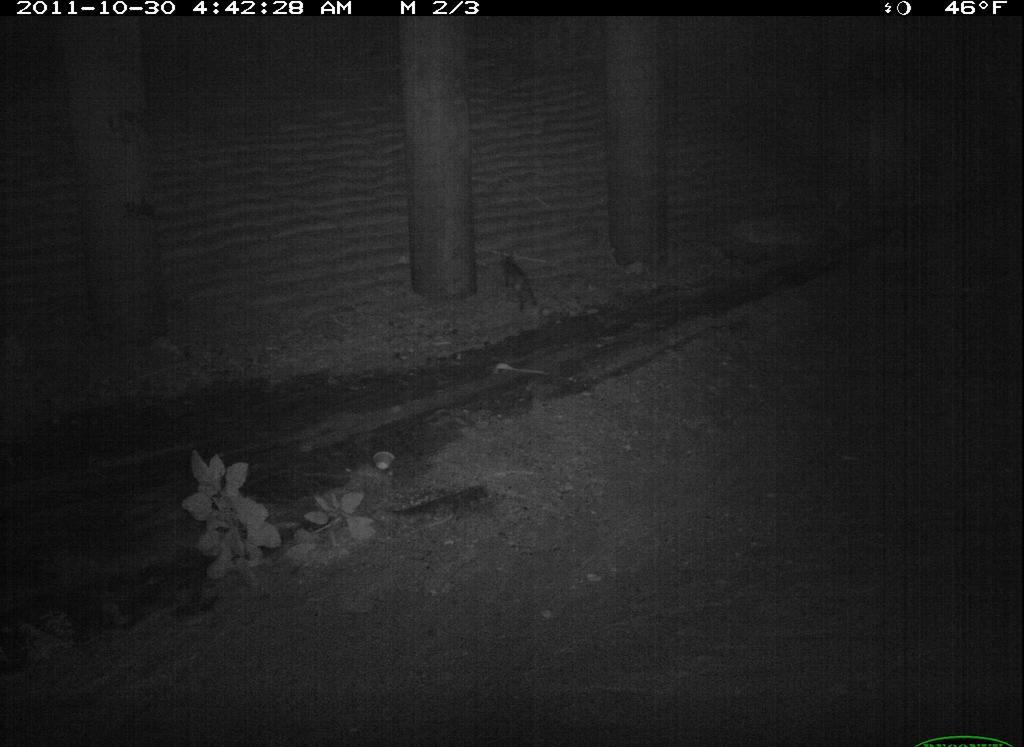cat: (983, 496, 1024, 640)
